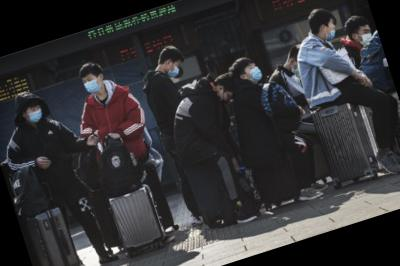mask_weared_incorrect: (323, 24, 341, 43)
with_mask: (82, 73, 103, 95), (25, 104, 46, 125), (245, 63, 265, 84), (357, 25, 376, 47), (166, 63, 184, 79)
